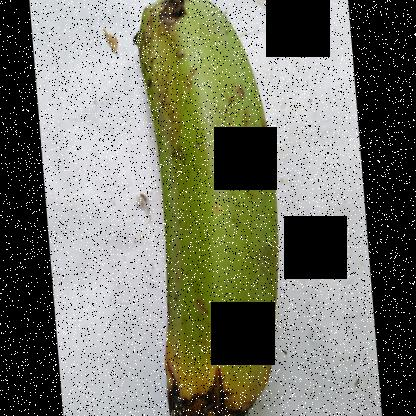rotten: (169, 308, 321, 415)
unripe: (147, 0, 284, 346)
